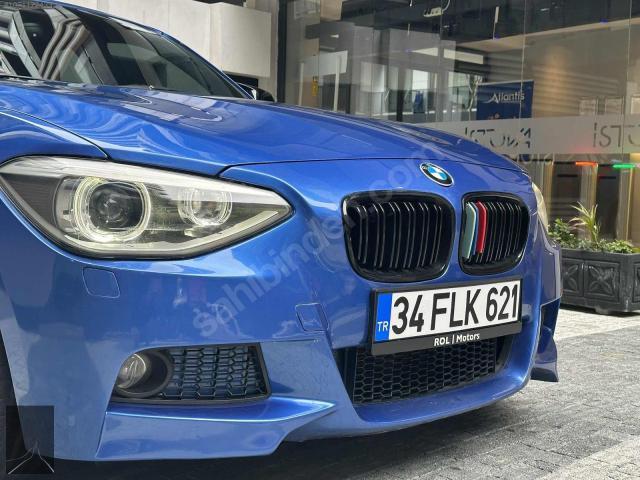plaka: (376, 280, 520, 341)
